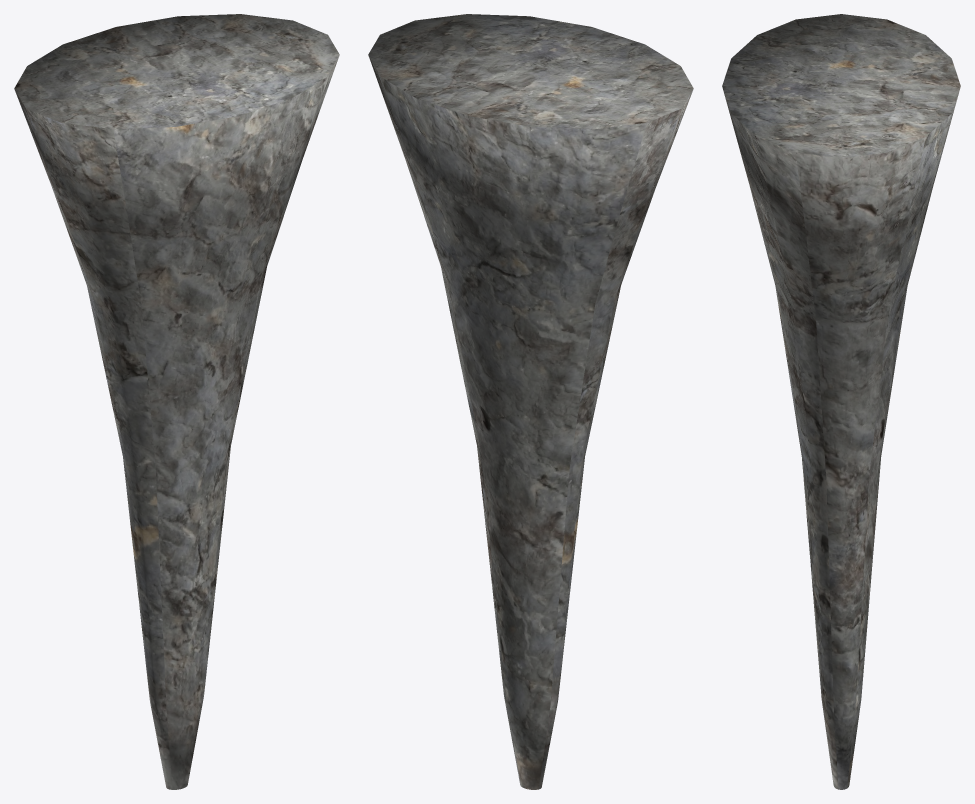
The model's file is Stalagmite.fbx.
3 views of the same model, side by side, from view 1: azimuth 30°, elevation 25°; view 2: azimuth 150°, elevation 25°; view 3: azimuth 270°, elevation 25° (orthographic). The views are drawn at different scales.
Visible parts, largest first — view 1: Cylinder; view 2: Cylinder; view 3: Cylinder.
Boxes of the visible parts, x1,y1,x2,y2 form: Cylinder: [14, 14, 339, 789]; Cylinder: [368, 14, 693, 789]; Cylinder: [722, 14, 960, 789].
Bounding box in the file's own units: 2.6 × 5.88 × 1.82.
